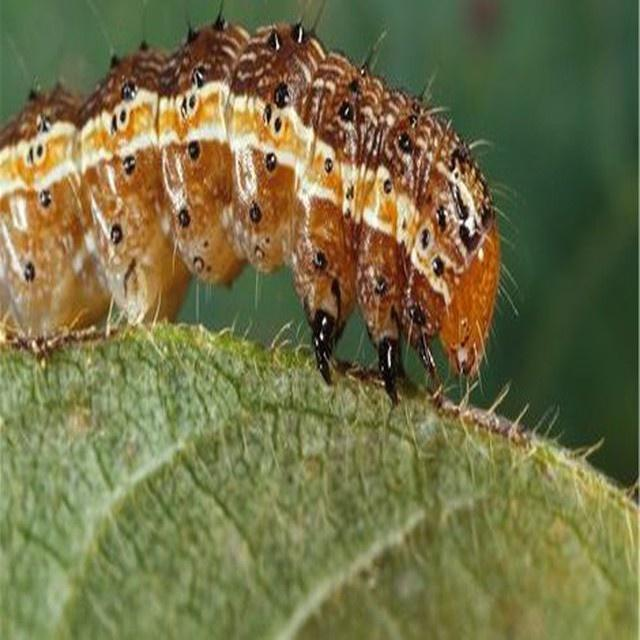gusano_cogollero: (0, 0, 515, 404)
